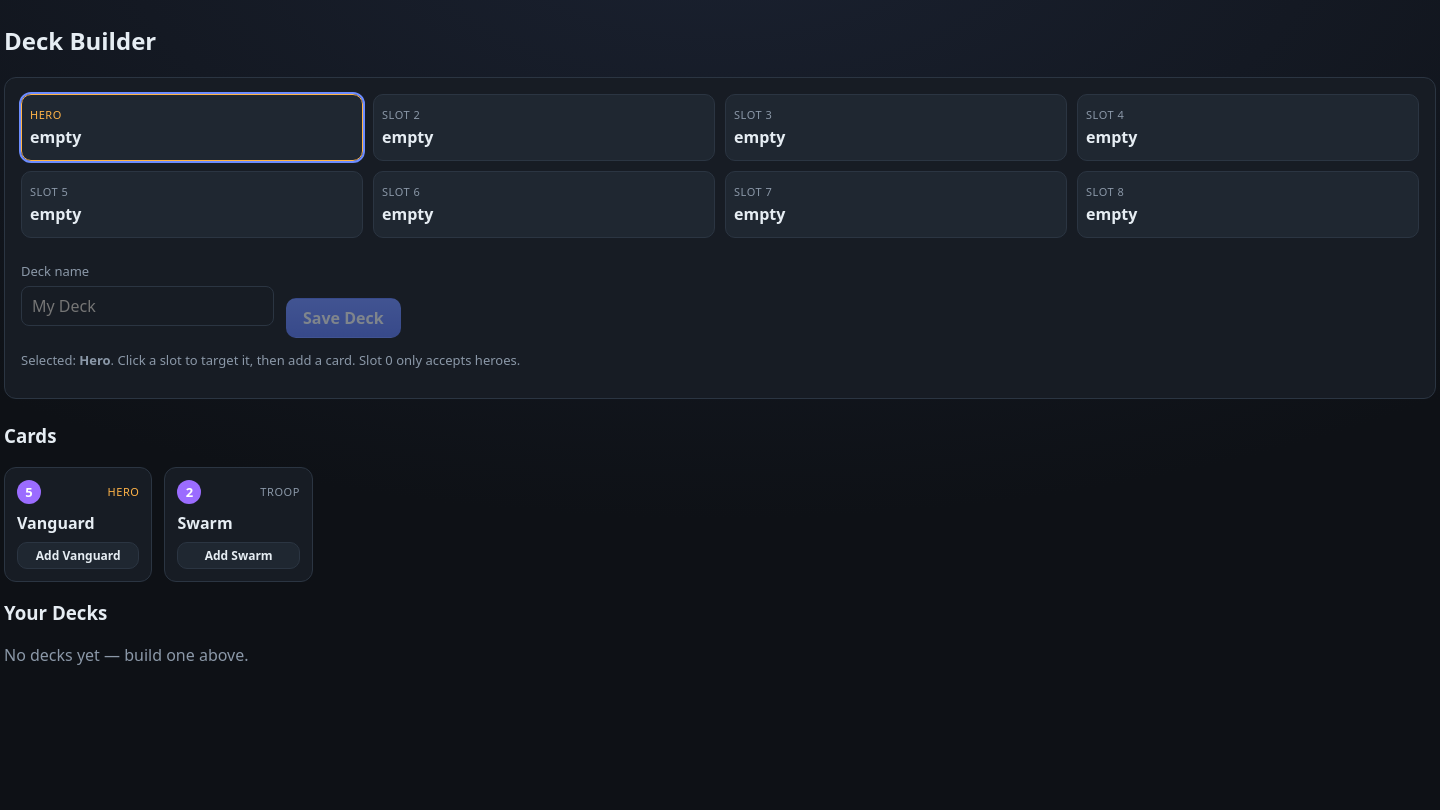
Collection deck builder › accepts a hero in slot 0
Click the button "Add Vanguard". click: (78, 555)
box: [17,542,139,569]
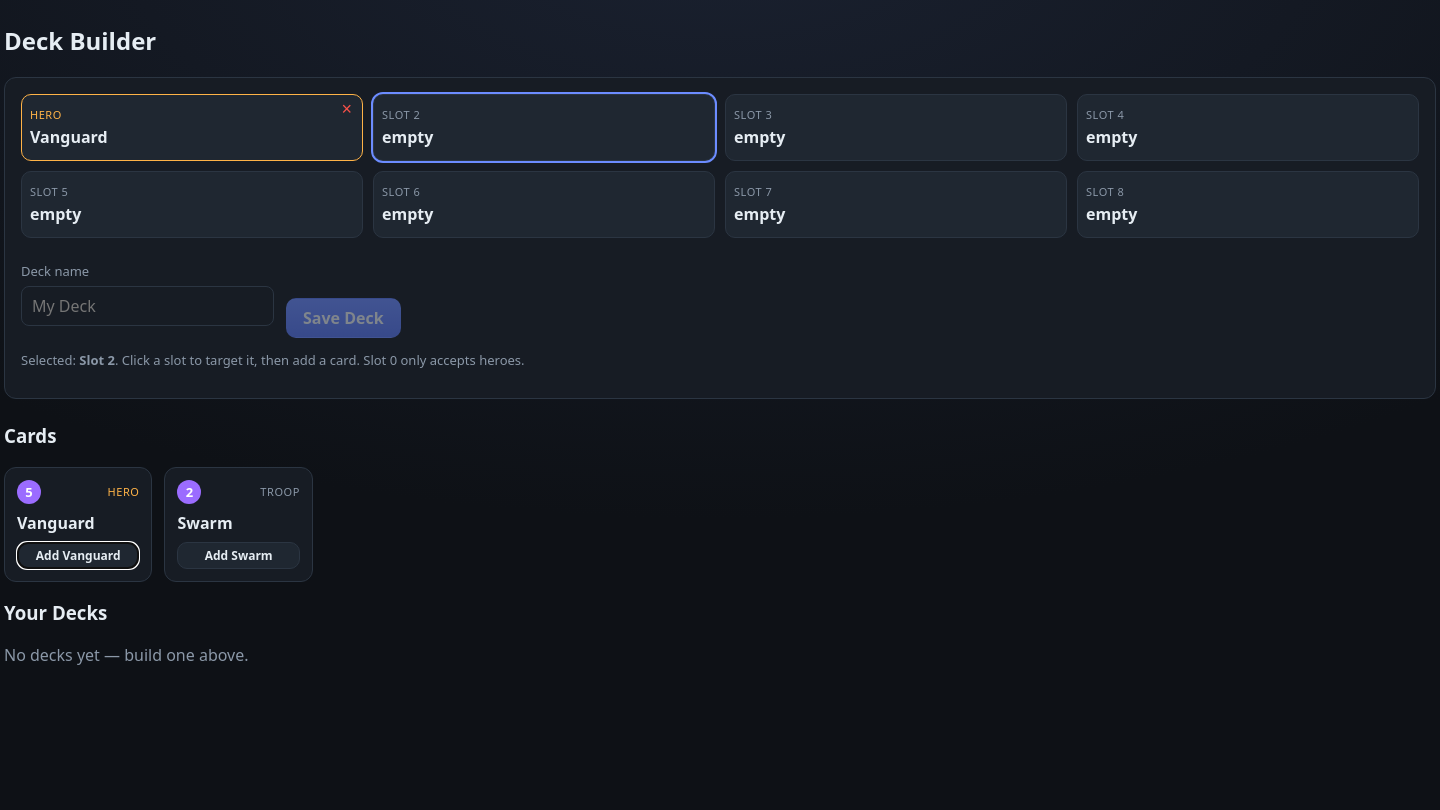
Check: the button with aria-label "select hero slot" shows "Vanguard", box [22,95,362,160]
